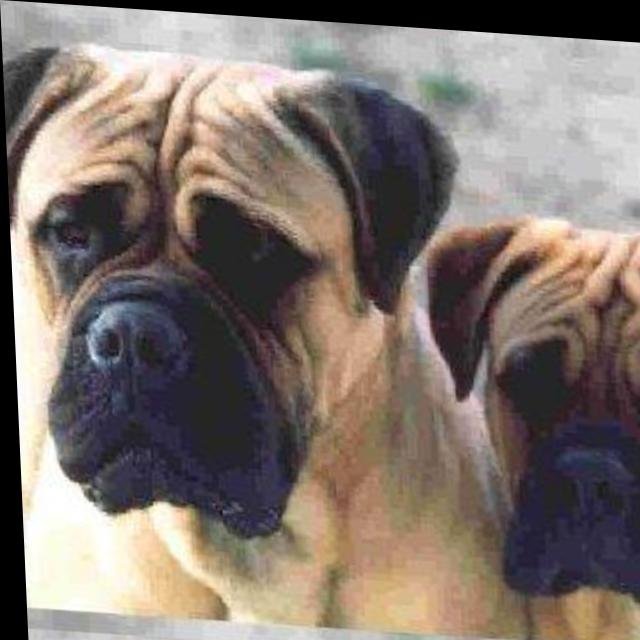bullmastiff: (3, 38, 522, 637), (424, 203, 640, 640)
